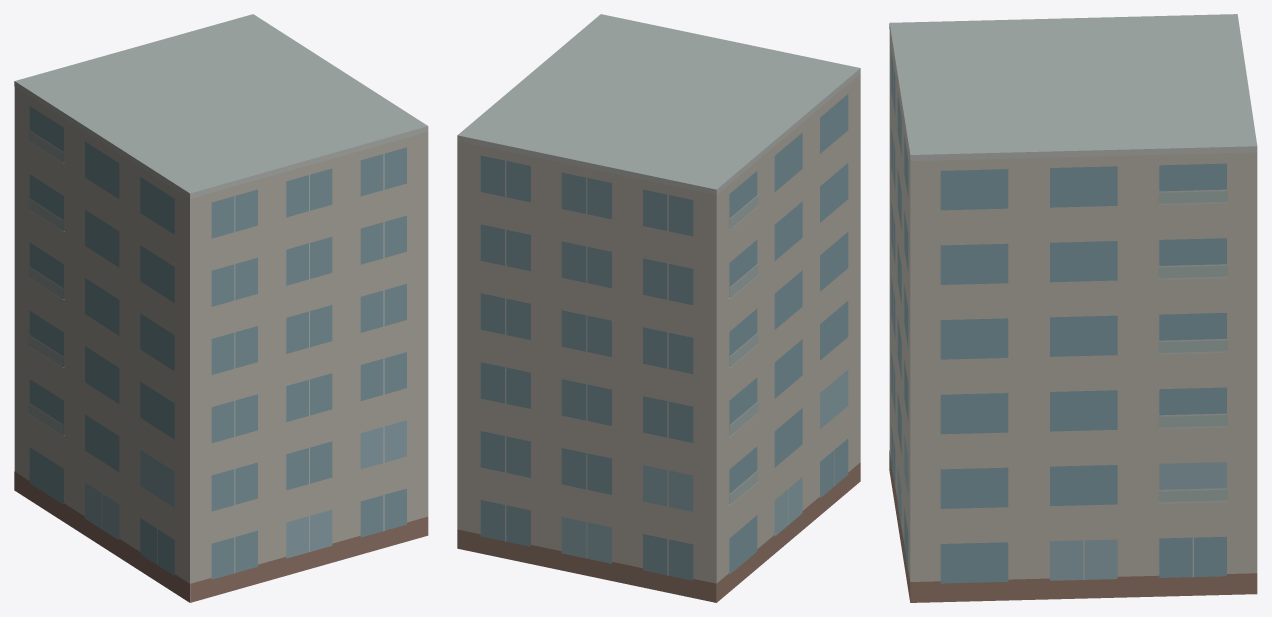
The model's file is survey-upis-32929110.glb.
3 views of the same model, side by side, from view 1: azimuth 30°, elevation 25°; view 2: azimuth 150°, elevation 25°; view 3: azimuth 270°, elevation 25° (orthographic). The views are drawn at different scales.
Visible parts, largest first — view 1: survey-upis-32929110.tmp; view 2: survey-upis-32929110.tmp; view 3: survey-upis-32929110.tmp.
Boxes of the visible parts, box(x1,y1,x2,y2) form: survey-upis-32929110.tmp: box(14, 14, 428, 602); survey-upis-32929110.tmp: box(457, 14, 860, 602); survey-upis-32929110.tmp: box(889, 14, 1257, 602).
Size of the model in its own units: 12.3 by 18.2 by 13.56.
